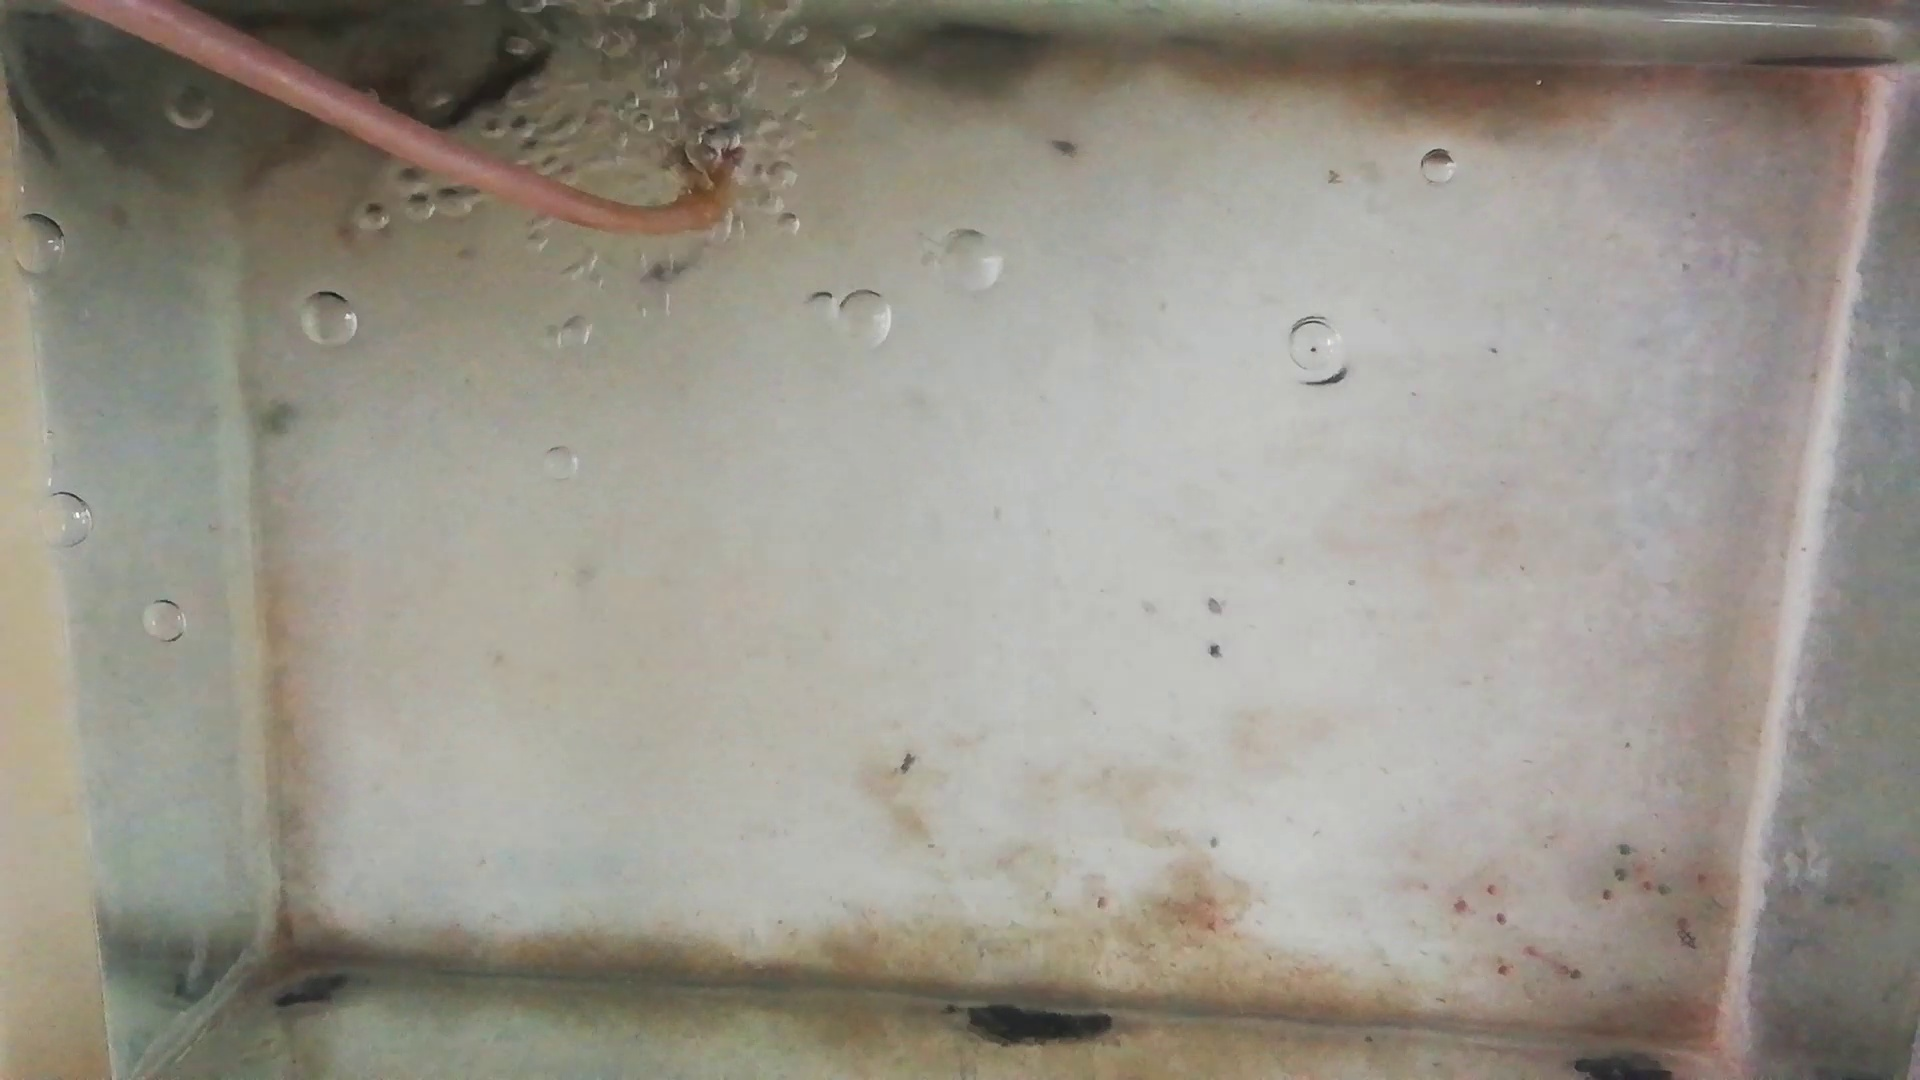fish: (219, 103, 357, 177), (417, 53, 554, 123)
